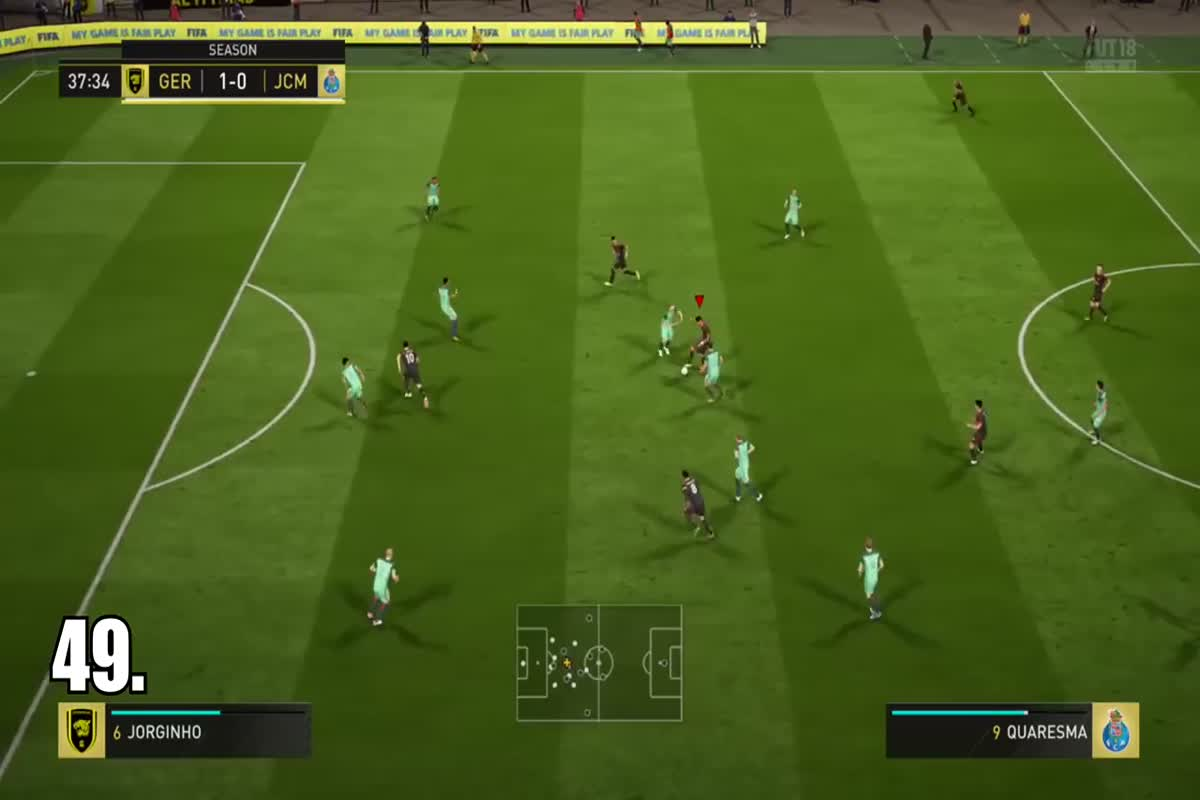ball: (676, 361, 692, 380)
